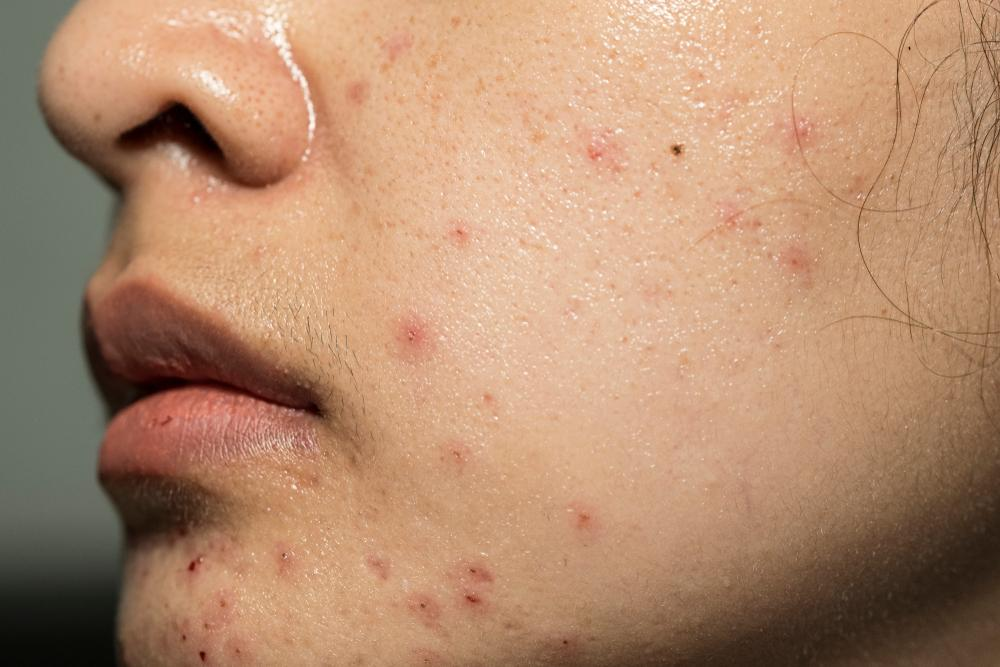Acne: (366, 306, 599, 667), (577, 83, 832, 282), (127, 526, 298, 667), (332, 30, 413, 121), (443, 219, 477, 248)
